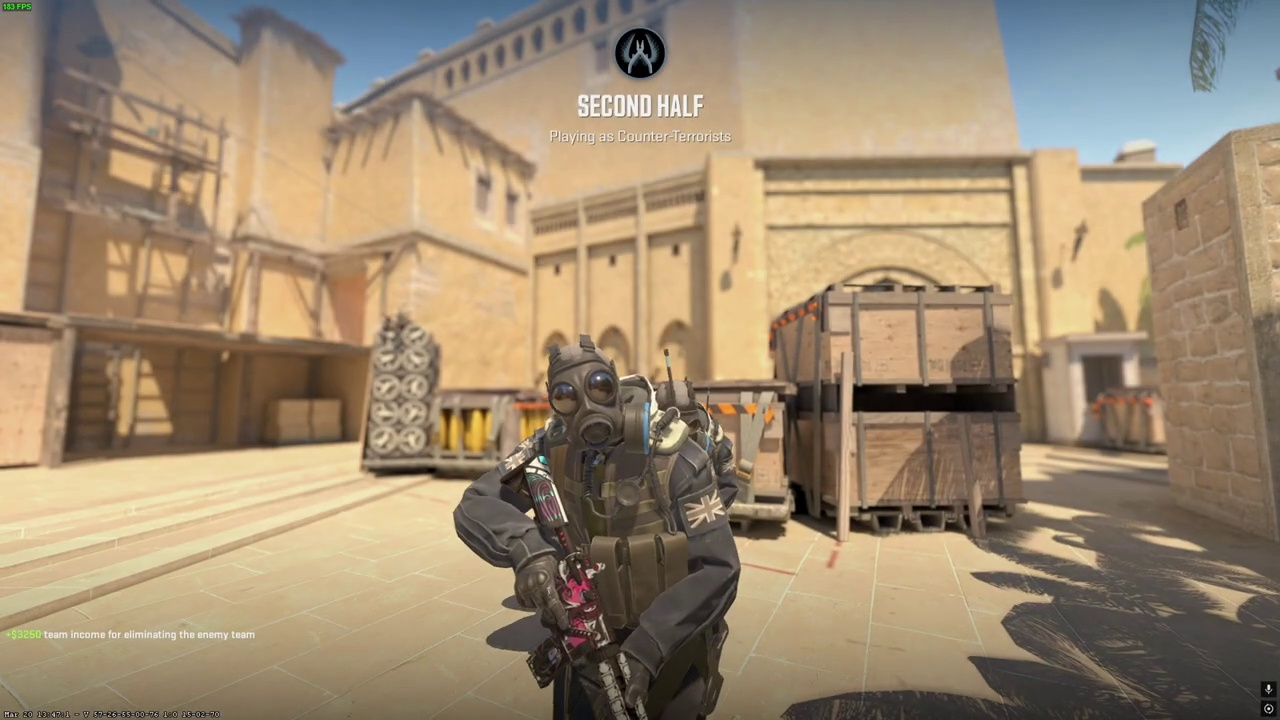CT: (454, 334, 741, 720)
